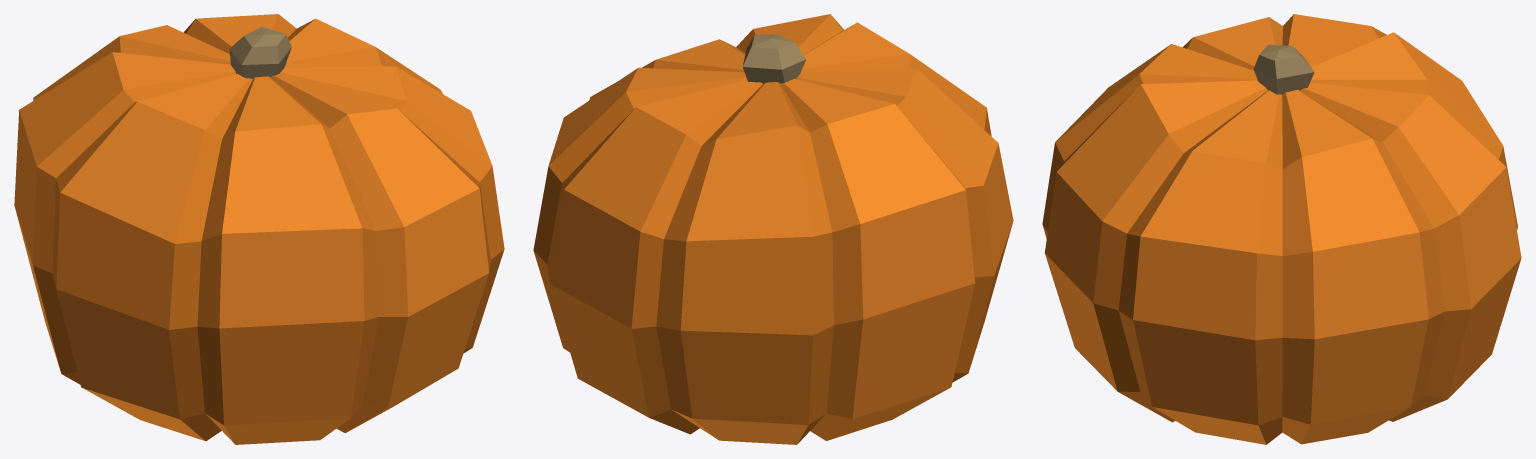
Rendered from SM_Prop_Pumpkin_01.glb.
3 renders of one model, left to right at view 1: azimuth 30°, elevation 25°; view 2: azimuth 150°, elevation 25°; view 3: azimuth 270°, elevation 25°, orthographic. The views are drawn at different scales.
Visible parts, largest first — view 1: SM_Prop_Pumpkin_01; view 2: SM_Prop_Pumpkin_01; view 3: SM_Prop_Pumpkin_01.
Part boxes in pixels (x1,y1,x2,y2): SM_Prop_Pumpkin_01: (14, 14, 504, 444); SM_Prop_Pumpkin_01: (533, 14, 1013, 444); SM_Prop_Pumpkin_01: (1042, 14, 1521, 444).
Size of the model in its own units: 0.5441 by 0.4291 by 0.5453.
Materials: 1 (1 with a texture image).
